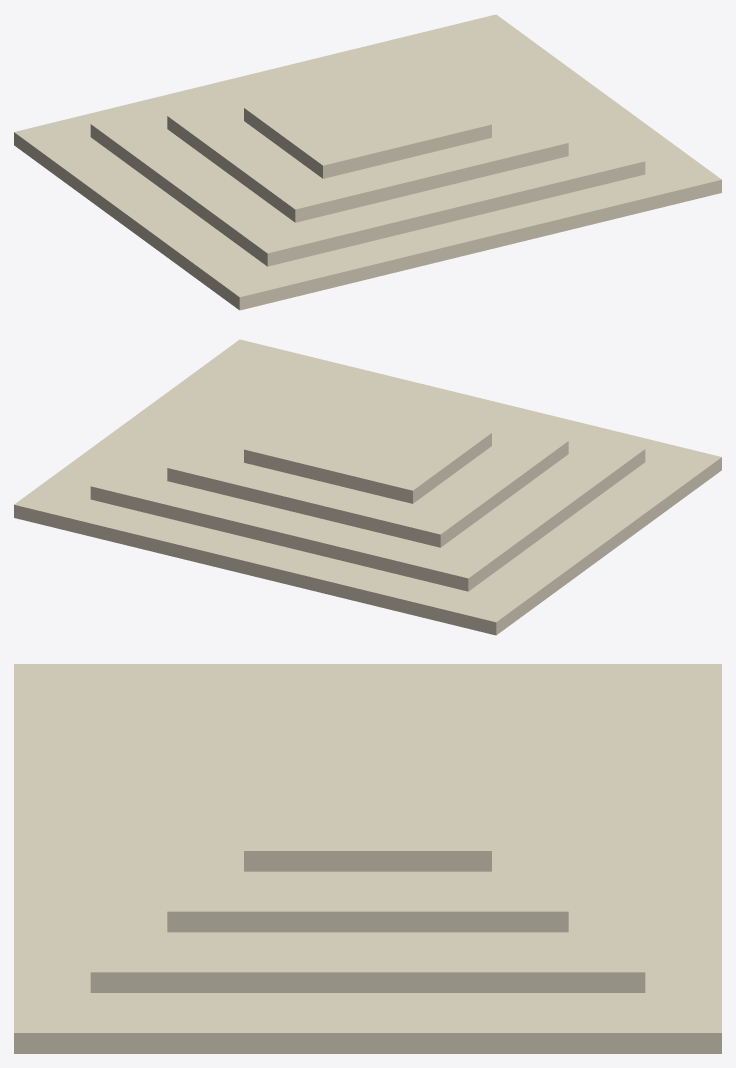
File: place-cahokia-monks-mound.glb
The picture shows the model from 3 angles, top to bottom: view 1: azimuth 30°, elevation 25°; view 2: azimuth 150°, elevation 25°; view 3: azimuth 270°, elevation 25°; orthographic projection. The views are drawn at different scales.
Visible parts, largest first — view 1: place-cahokia-monks-mound; view 2: place-cahokia-monks-mound; view 3: place-cahokia-monks-mound.
Part boxes in pixels (x1,y1,x2,y2): place-cahokia-monks-mound: [14, 14, 721, 310]; place-cahokia-monks-mound: [14, 339, 721, 635]; place-cahokia-monks-mound: [14, 664, 721, 1053].
Size of the model in its own units: 291 by 30.5 by 236.
